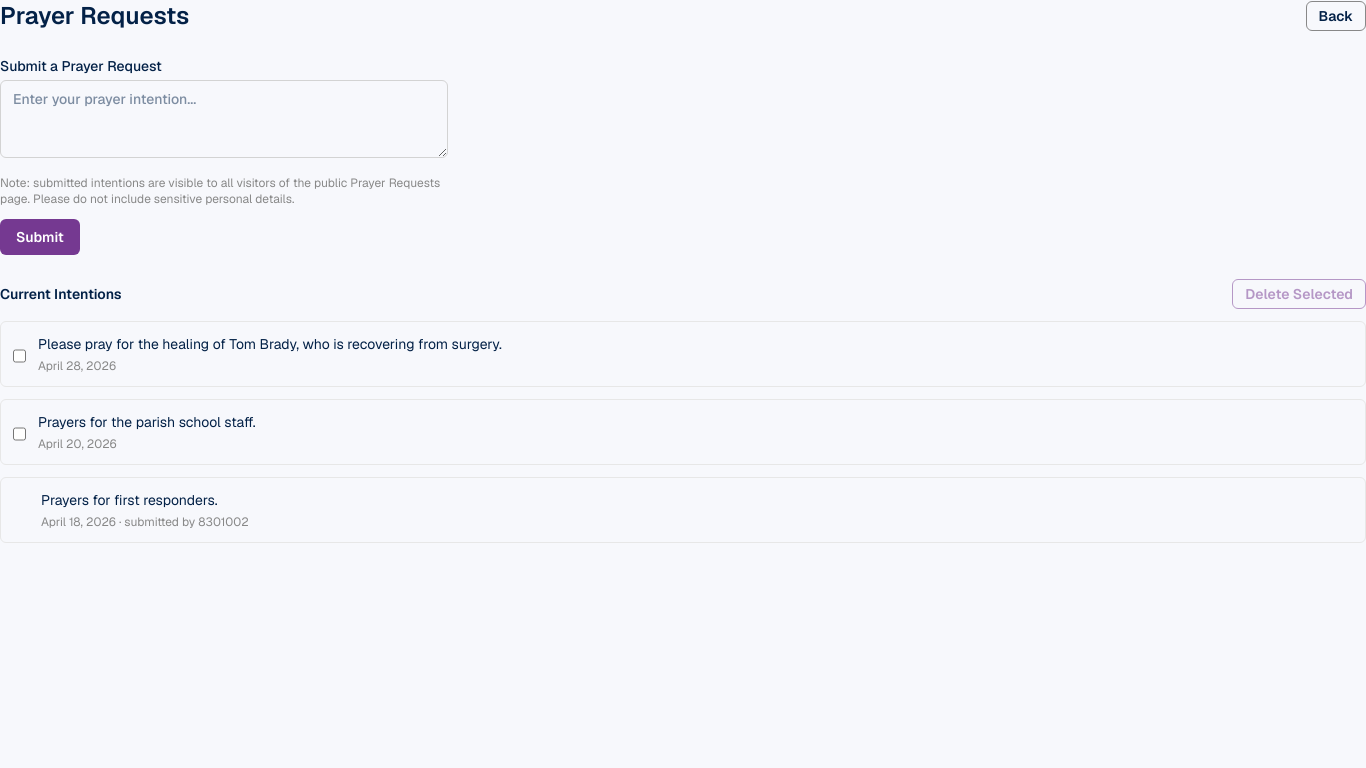
Scenario: PrayerRequests › reports partial failure when some deletes succeed and others fail
Expected: the text "Tom Brady" is shown, [38, 335, 502, 353]
Step 1. Click the checkbox named "Select prayer request pr-001" → (20, 356), box [13, 338, 26, 374]
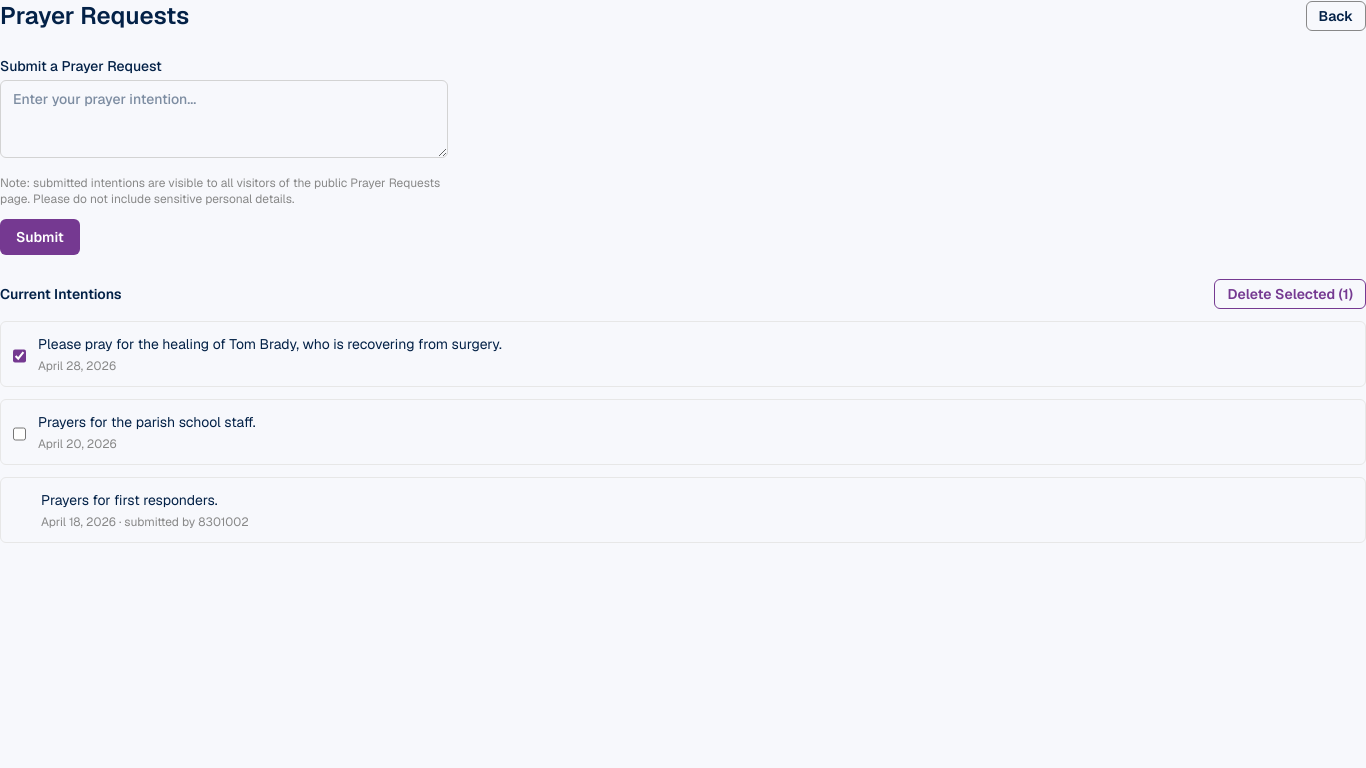
Step 2. Click the checkbox named "Select prayer request pr-002" → (20, 434), box [13, 416, 26, 452]
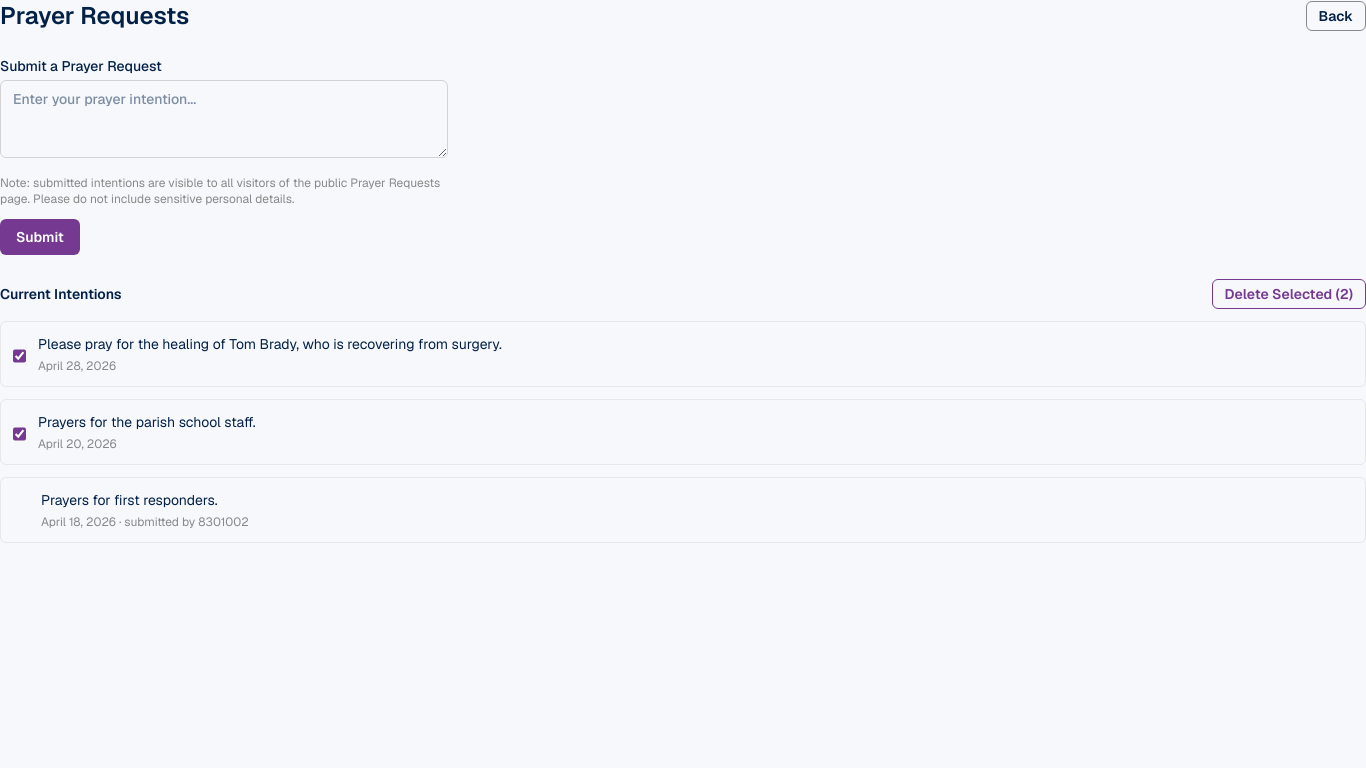
Step 3. Click the button "Delete Selected (2)" → (1289, 294), box [1212, 279, 1365, 309]
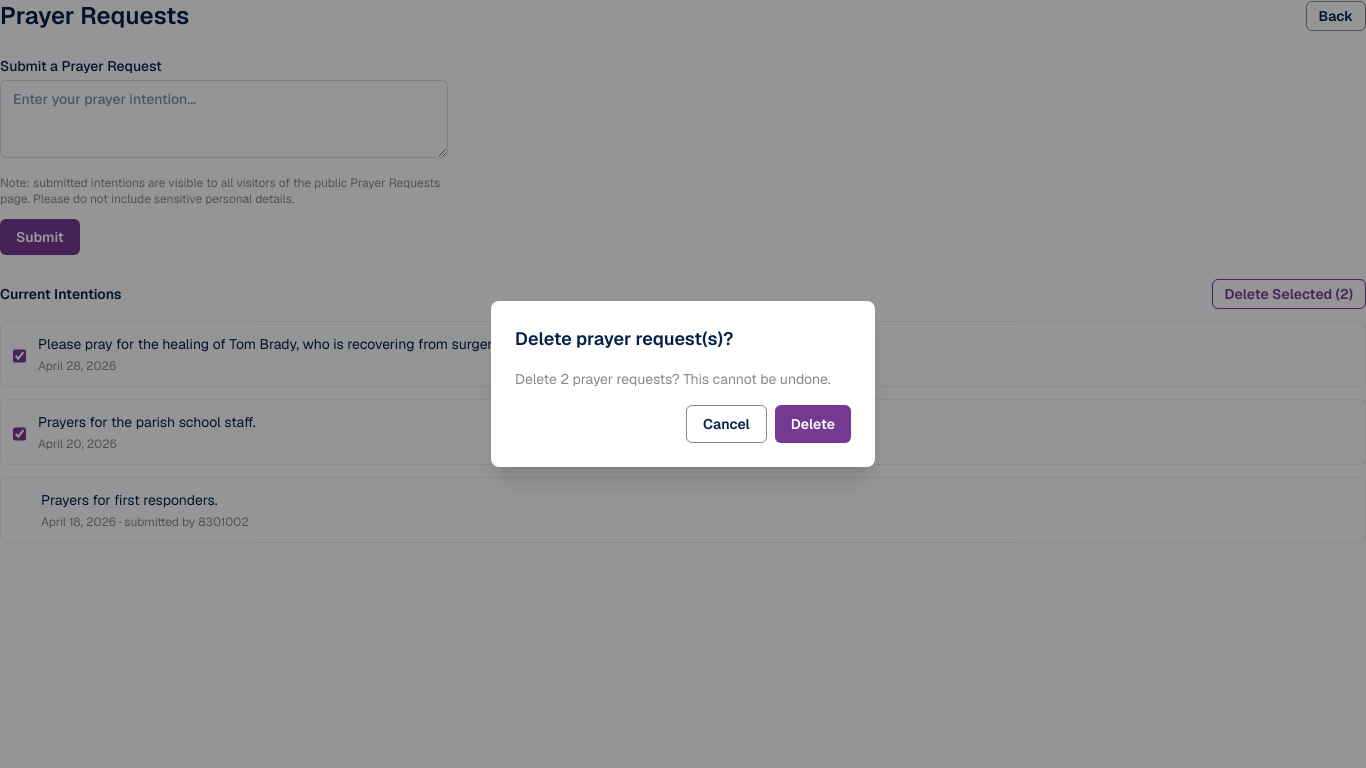
Step 4. Click the button "Delete" → (813, 424), box [775, 405, 851, 443]
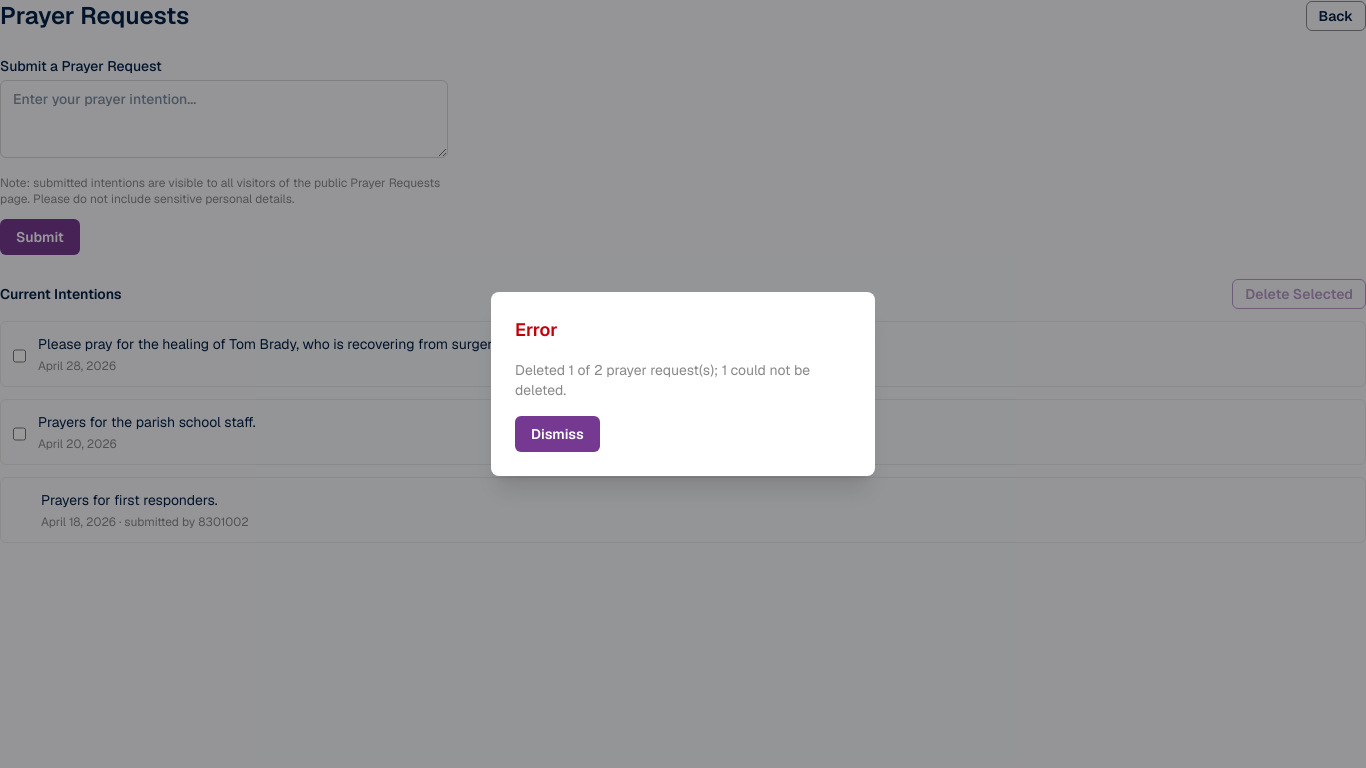
Expected: the text "Deleted 1 of 2 prayer request(s); 1 could not be deleted." is shown, [515, 360, 851, 400]
